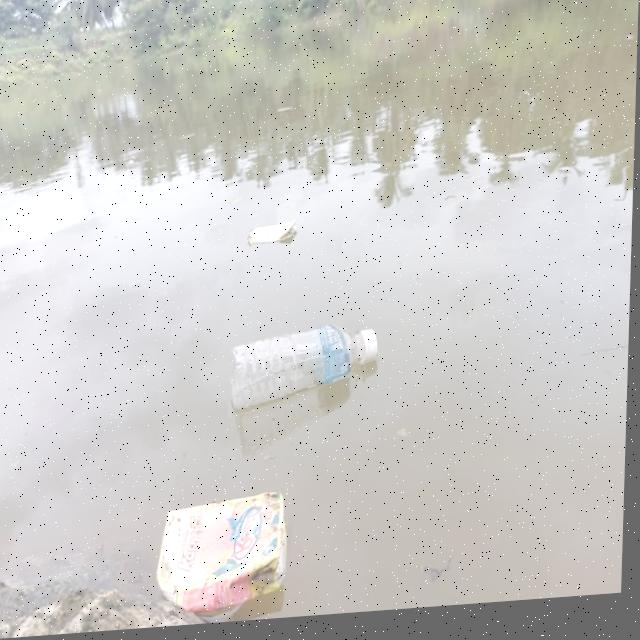paper: (152, 482, 292, 624), (243, 218, 296, 269)
waterbottle: (210, 308, 386, 423)
